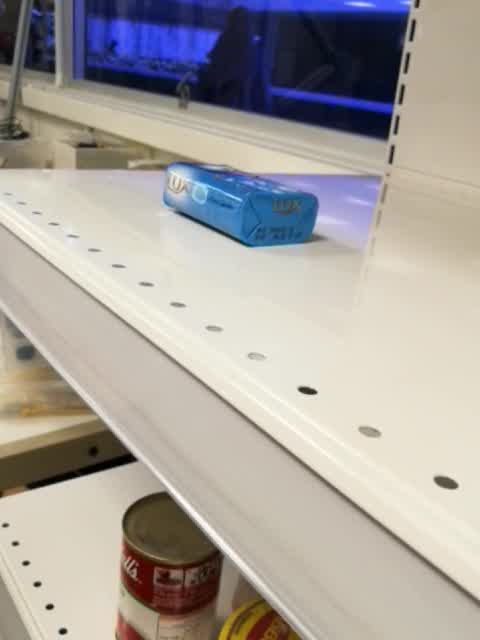soap: (161, 161, 320, 249)
